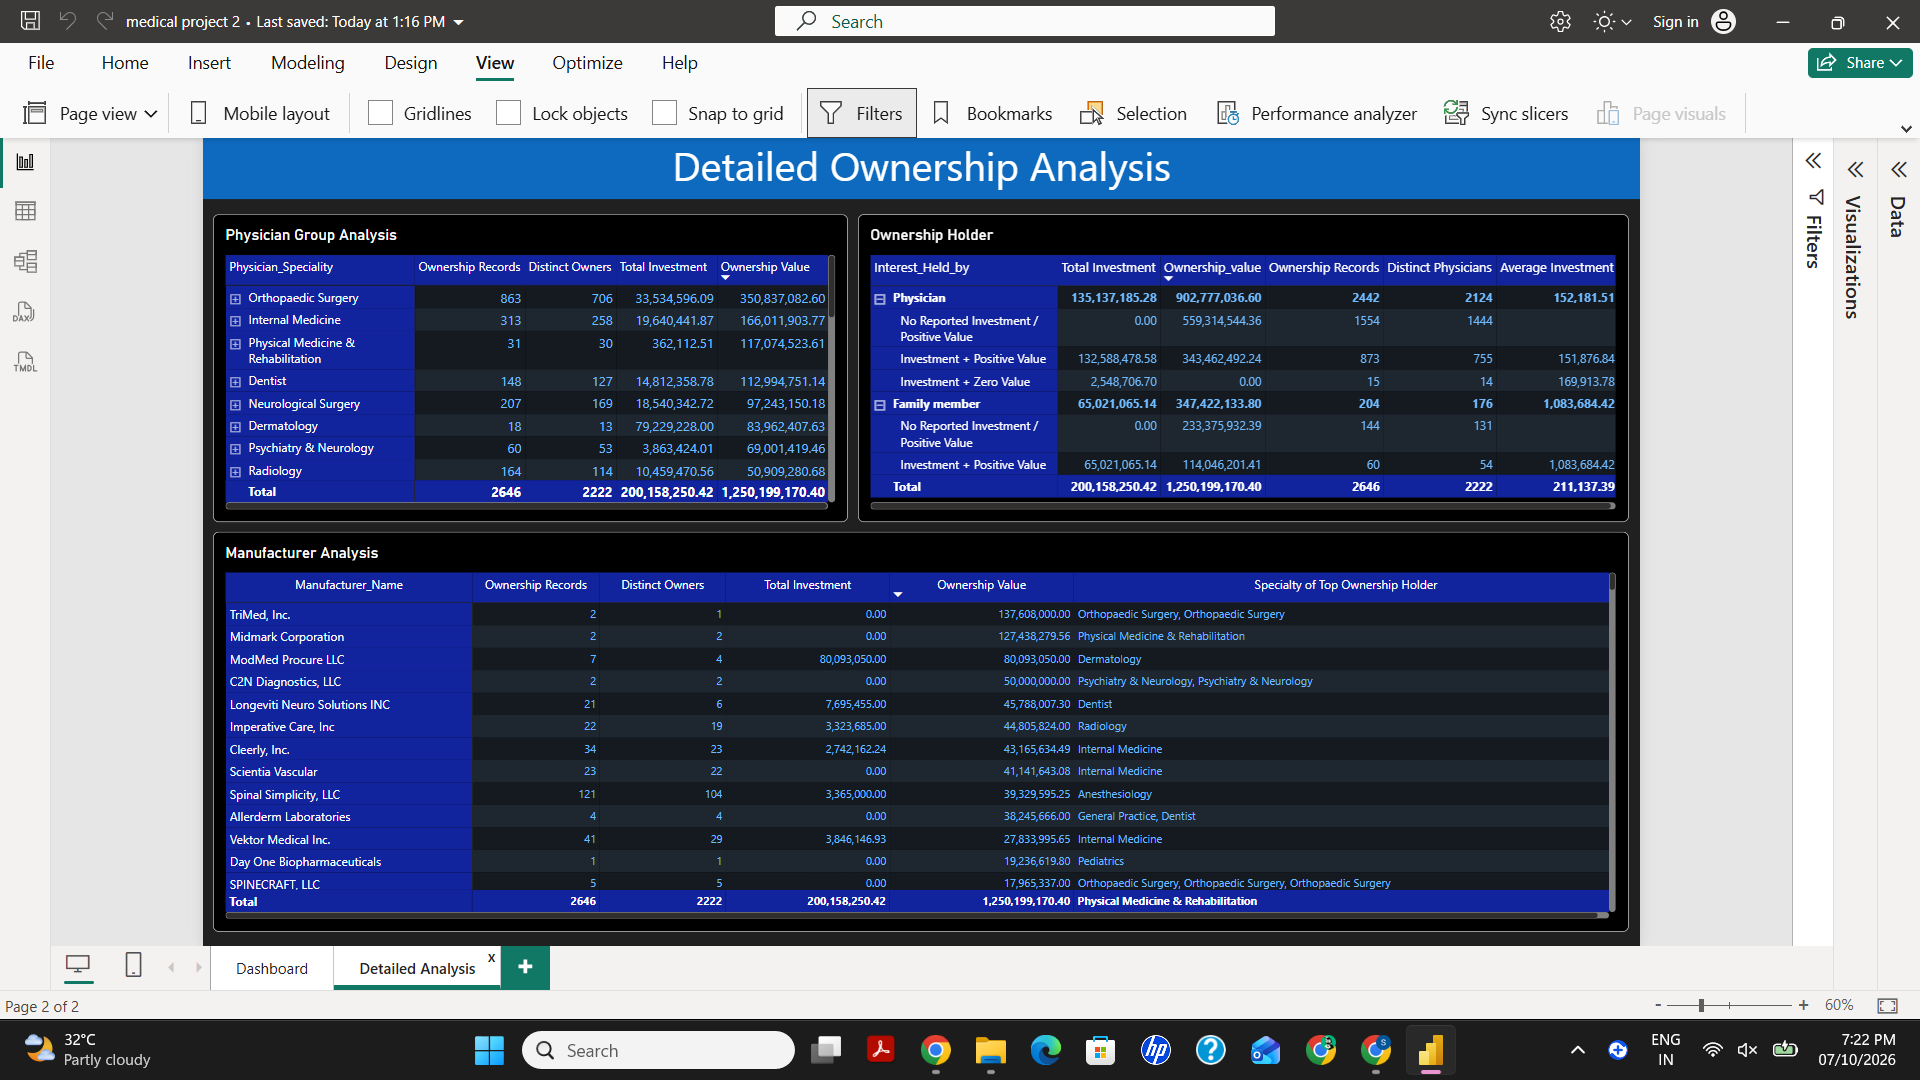

This screenshot's page, from the dashboard's own definition file:
{"tool":"powerbi","page":{"name":"Detailed Analysis","canvas":[1920,1080],"ordinal":1},"visuals":[{"type":"pivotTable","title":"Physician Group Analysis","fields":{"Rows":["Ownership.Physician_Group","Ownership.Physician_Subspeciality"],"Values":["Ownership.Ownership Record Count","Ownership.Distinct Ownerships","Ownership.Total Investment","Ownership.Ownership_value"]},"box":[13.6,101.4,848.1,411.4],"z":0},{"type":"pivotTable","title":"Manufacturer Analysis","fields":{"Rows":["Ownership.Applicable_Manufacturer_or_Applicable_GPO_Making_Payment_Name"],"Values":["Ownership.Ownership Record Count","Ownership.Distinct Ownerships","Ownership.Total Investment","Ownership.Ownership_value","Ownership.Specialty of Top Ownership Holder"]},"box":[13.6,526.4,1891.2,534.2],"z":1000},{"type":"pivotTable","title":"Ownership Holder","fields":{"Rows":["Ownership.Interest_Held_by_Physician_or_an_Immediate_Family_Member","Ownership.Financial Status"],"Values":["Ownership.Total Amount Invested","Ownership.Total Value of Interest","Ownership.Ownership Record Count","Ownership.Distinct Physicians with Ownership","Ownership.Avg Investment per Physician"]},"box":[875.4,101.4,1029.4,411.4],"z":2000},{"type":"textbox","box":[0,0,1920.4,81.9],"z":3000}]}

Visuals, with their boxes on the page's 1920x1080 design canvas (x1, y1, x2, y2). These are canvas units, not pixel positions in the 1920x1080 screenshot, which may show the page scaled, cropped or inside an application window:
"Physician Group Analysis" pivotTable: pyautogui.locateOnScreen(14, 101, 862, 513)
"Manufacturer Analysis" pivotTable: pyautogui.locateOnScreen(14, 526, 1905, 1061)
"Ownership Holder" pivotTable: pyautogui.locateOnScreen(875, 101, 1905, 513)
textbox: pyautogui.locateOnScreen(0, 0, 1920, 82)
